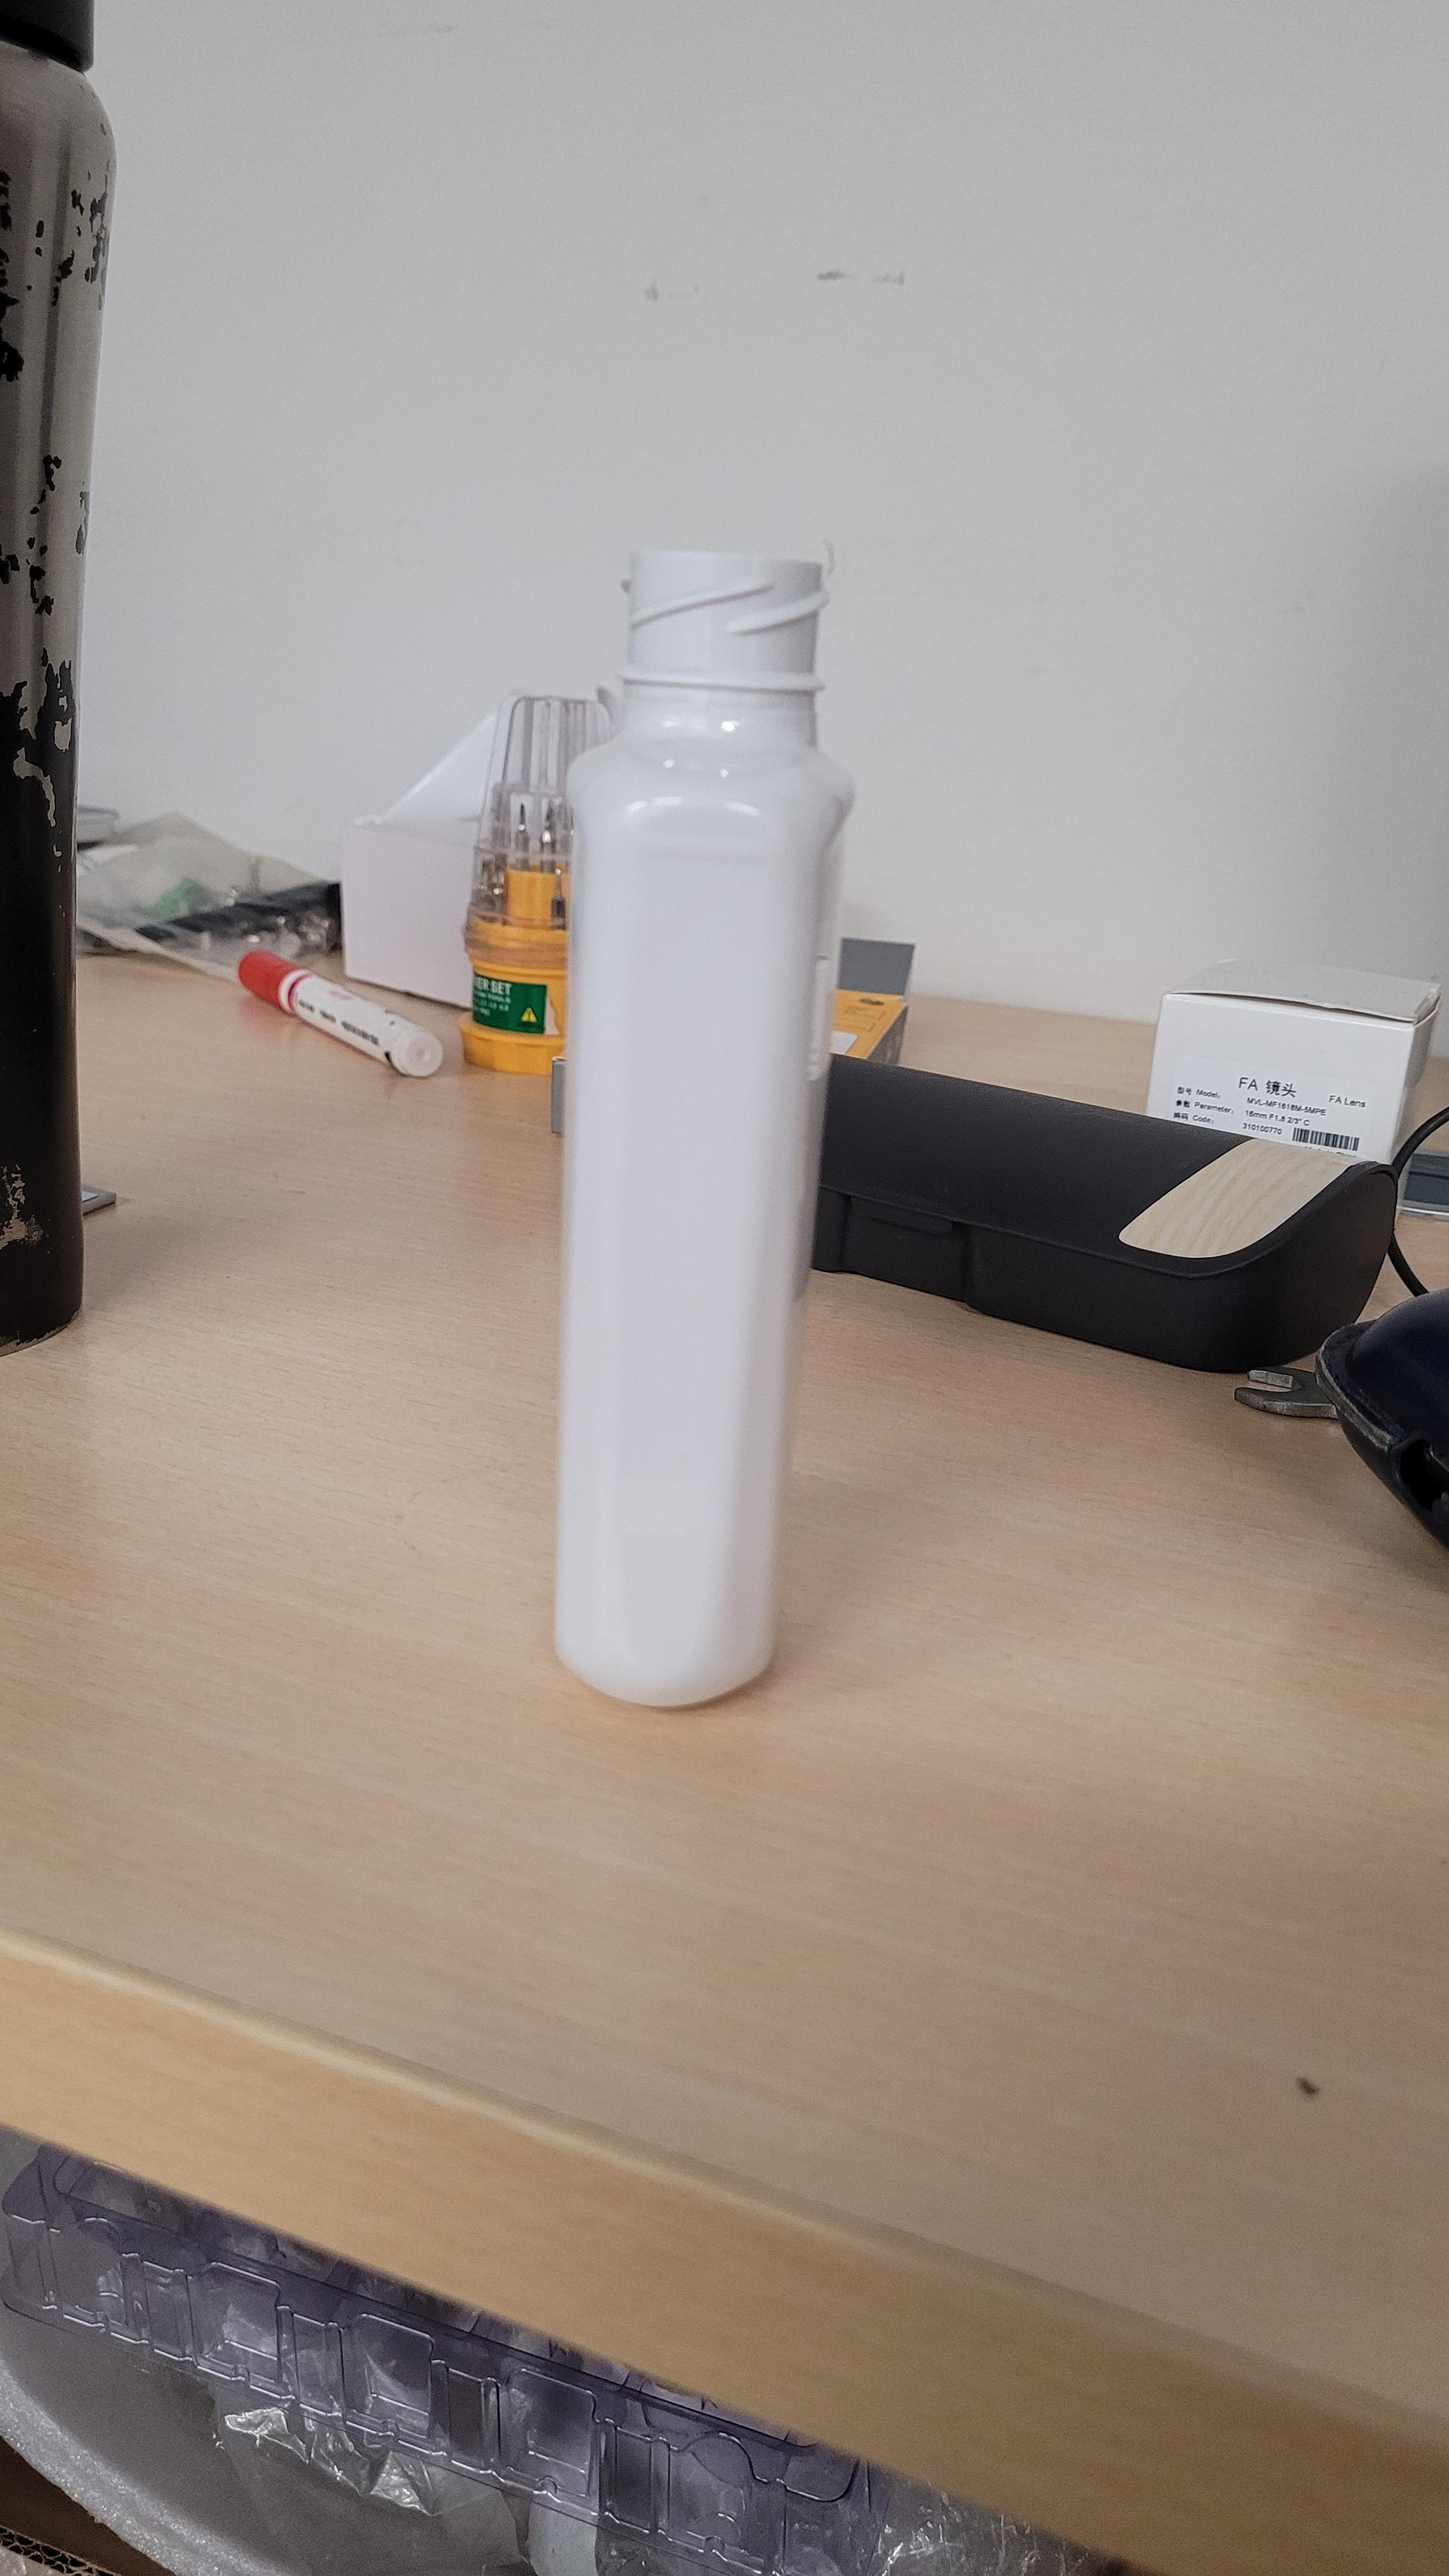Bad: (524, 506, 865, 1748)
